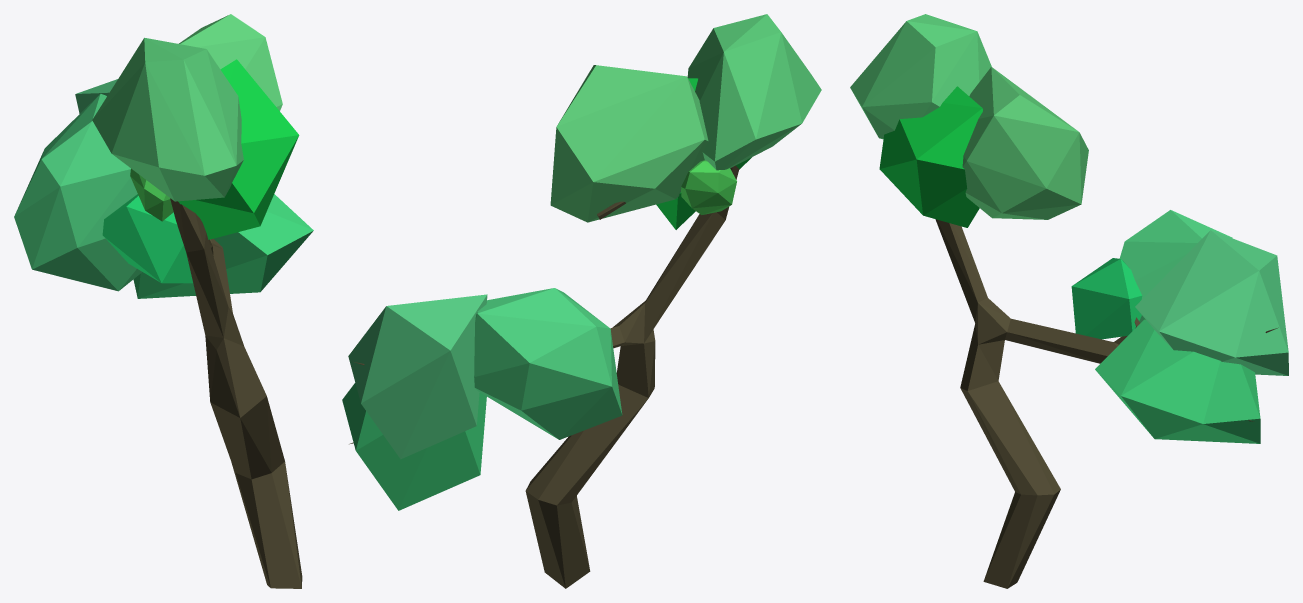
File: polytree_1.fbx
3 views of the same model, side by side, from view 1: azimuth 30°, elevation 25°; view 2: azimuth 150°, elevation 25°; view 3: azimuth 270°, elevation 25° (orthographic). The views are drawn at different scales.
Parts seen in each view (by area): view 1: Icosphere.003, Cube, Icosphere.001, Icosphere.005, Icosphere.007, Icosphere, Icosphere.004, Icosphere.002, Icosphere.006; view 2: Icosphere.004, Icosphere.001, Icosphere.006, Cube, Icosphere.003, Icosphere.007, Icosphere.002, Icosphere.005; view 3: Cube, Icosphere.006, Icosphere.004, Icosphere.007, Icosphere.003, Icosphere.005, Icosphere, Icosphere.001.
Boxes of the visible parts, x1,y1,x2,y2 form: Icosphere.003: [92, 37, 243, 201]; Cube: [170, 198, 302, 588]; Icosphere.001: [14, 93, 141, 291]; Icosphere.005: [178, 59, 299, 239]; Icosphere.007: [133, 194, 313, 298]; Icosphere: [102, 194, 192, 283]; Icosphere.004: [178, 14, 282, 110]; Icosphere.002: [130, 168, 173, 221]; Icosphere.006: [75, 79, 117, 113]; Icosphere.004: [550, 65, 708, 222]; Icosphere.001: [474, 288, 622, 439]; Icosphere.006: [348, 294, 487, 459]; Cube: [349, 165, 739, 588]; Icosphere.003: [687, 14, 821, 170]; Icosphere.007: [342, 383, 486, 510]; Icosphere.002: [681, 160, 736, 214]; Icosphere.005: [656, 78, 751, 229]; Cube: [935, 219, 1278, 588]; Icosphere.006: [1135, 230, 1288, 375]; Icosphere.004: [962, 67, 1088, 219]; Icosphere.007: [1095, 319, 1260, 443]; Icosphere.003: [850, 14, 991, 139]; Icosphere.005: [879, 86, 982, 227]; Icosphere: [1071, 258, 1142, 339]; Icosphere.001: [1119, 210, 1232, 322].
Bounding box in the file's own units: 782 × 1362 × 1081.
